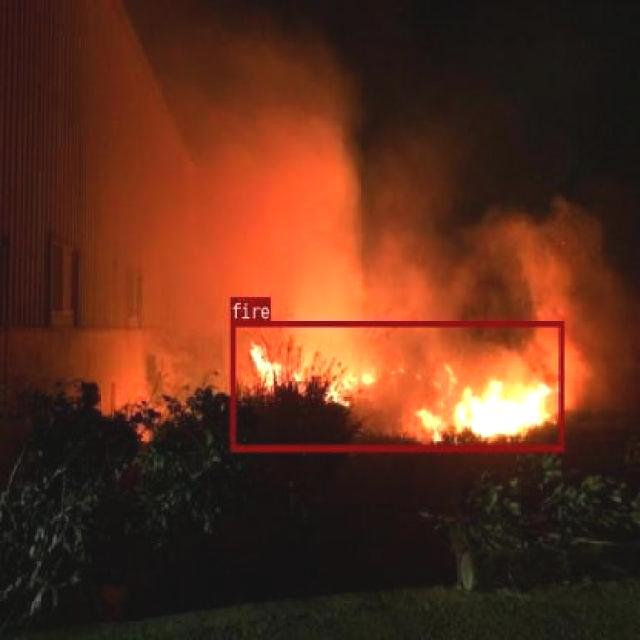fire: (229, 319, 563, 450)
